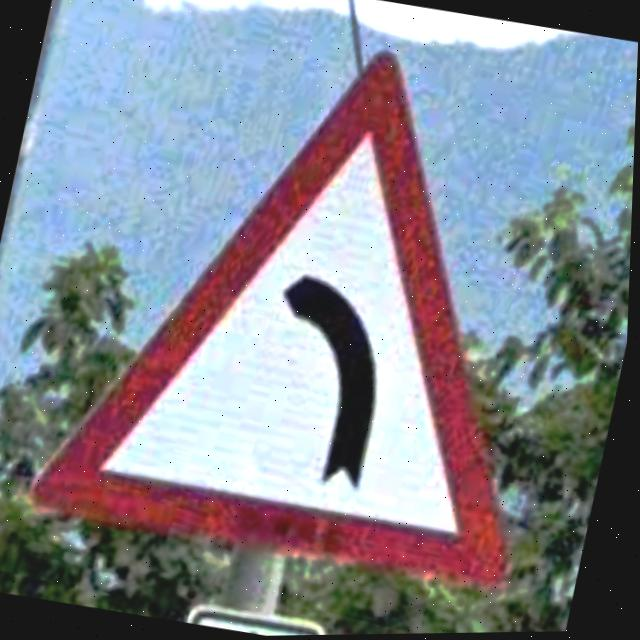leftbend: (35, 54, 515, 592)
